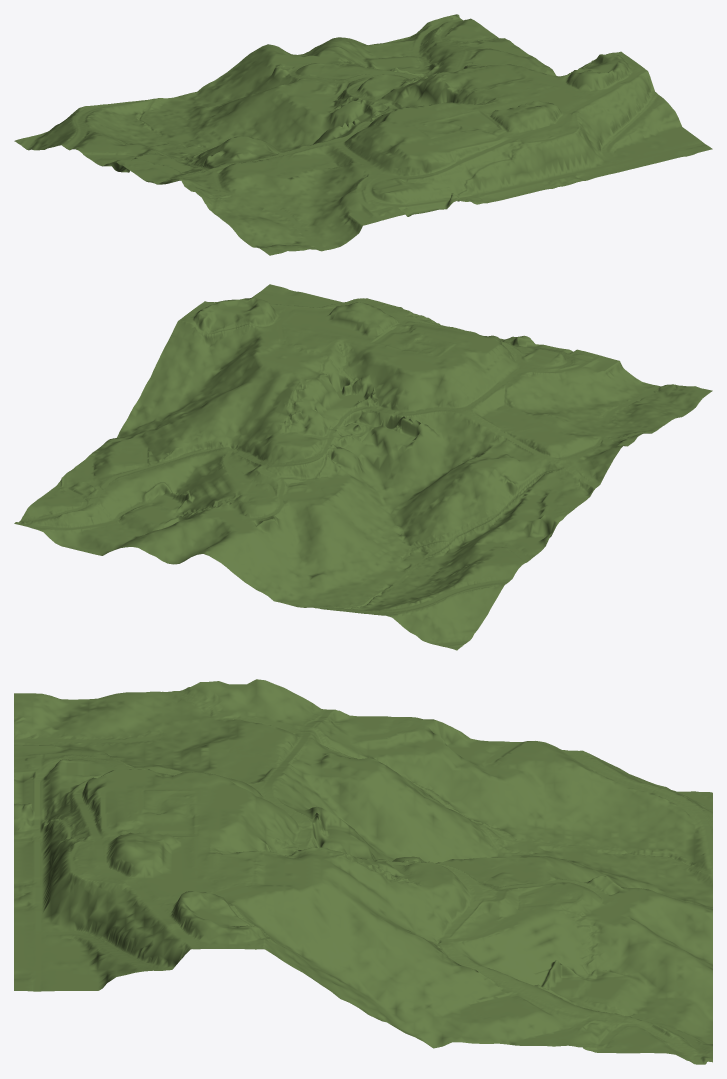
File: terrain_2_1.glb
3 views of the same model, one above another, from view 1: azimuth 30°, elevation 25°; view 2: azimuth 150°, elevation 25°; view 3: azimuth 270°, elevation 25° (orthographic). The views are drawn at different scales.
Visible parts, largest first — view 1: terrain_2_1; view 2: terrain_2_1; view 3: terrain_2_1.
Part boxes in pixels (x1,y1,x2,y2): terrain_2_1: [14, 14, 712, 255]; terrain_2_1: [14, 284, 712, 650]; terrain_2_1: [14, 679, 712, 1064].
Size of the model in its own units: 600 by 148 by 600.
